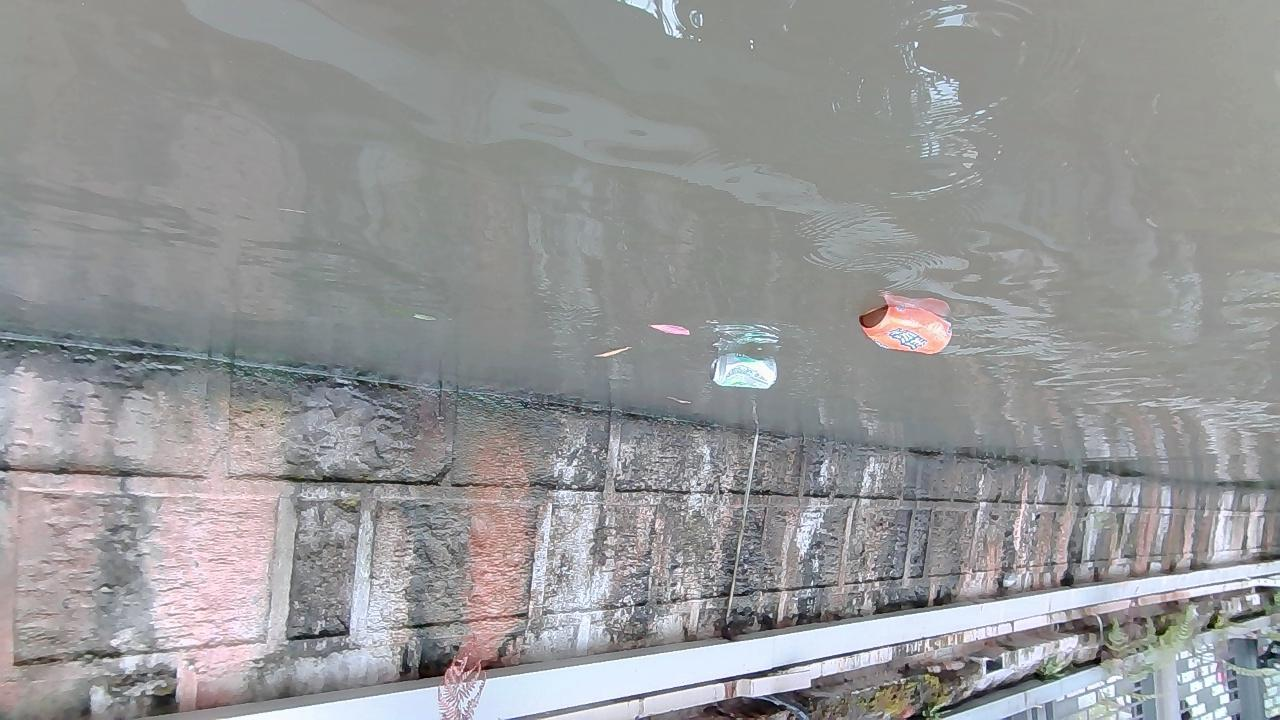Metal: (858, 305, 953, 355), (708, 351, 779, 391)
